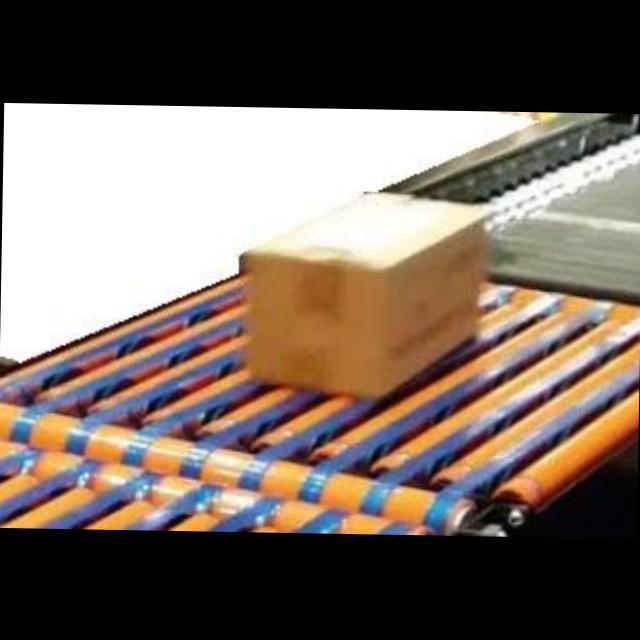box: (242, 190, 485, 388)
